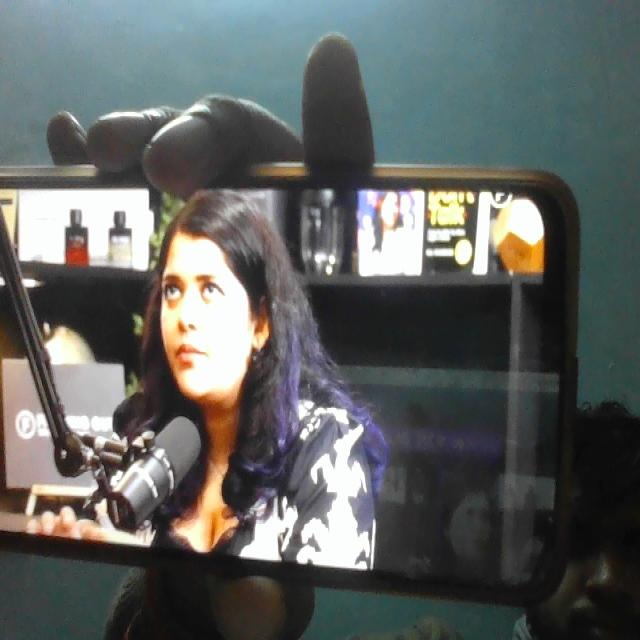fake: (149, 165, 277, 407)
